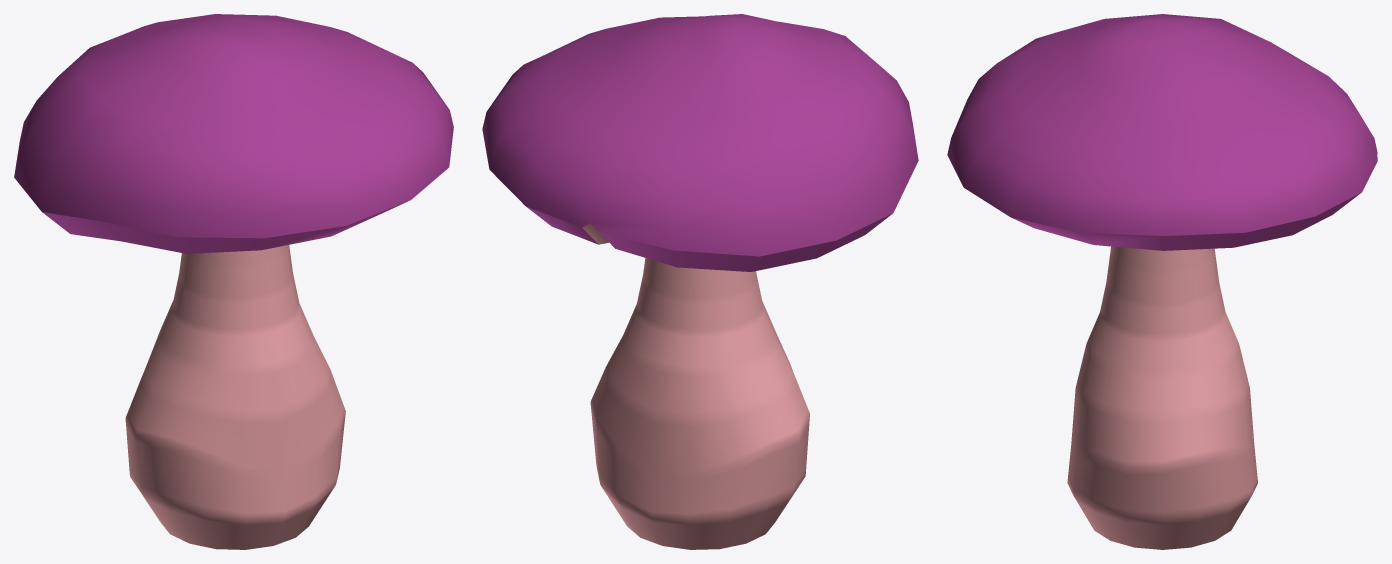
The model's file is Cogumelos_Inteiro.fbx.
3 views of the same model, side by side, from view 1: azimuth 30°, elevation 25°; view 2: azimuth 150°, elevation 25°; view 3: azimuth 270°, elevation 25° (orthographic). The views are drawn at different scales.
Parts seen in each view (by area): view 1: Sphere.002; view 2: Sphere.002; view 3: Sphere.002.
Part boxes in pixels (x1=…): Sphere.002: x1=14, y1=14, x2=453, y2=549; Sphere.002: x1=482, y1=14, x2=918, y2=549; Sphere.002: x1=947, y1=14, x2=1377, y2=549.
Size of the model in its own units: 29.86 by 36.39 by 29.54.
